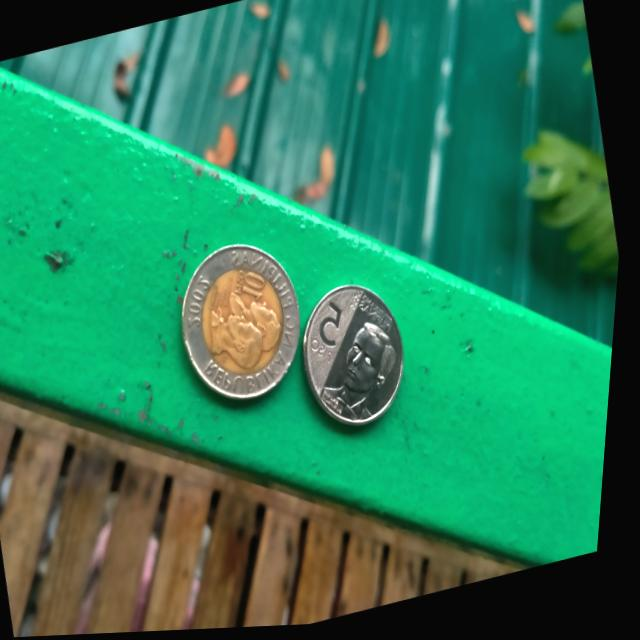10_Old_Front: (172, 240, 320, 410)
5_New_Front: (299, 285, 422, 427)
